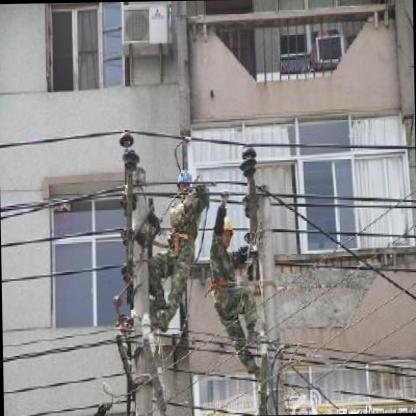helmet: (174, 166, 198, 206), (214, 210, 237, 248)
